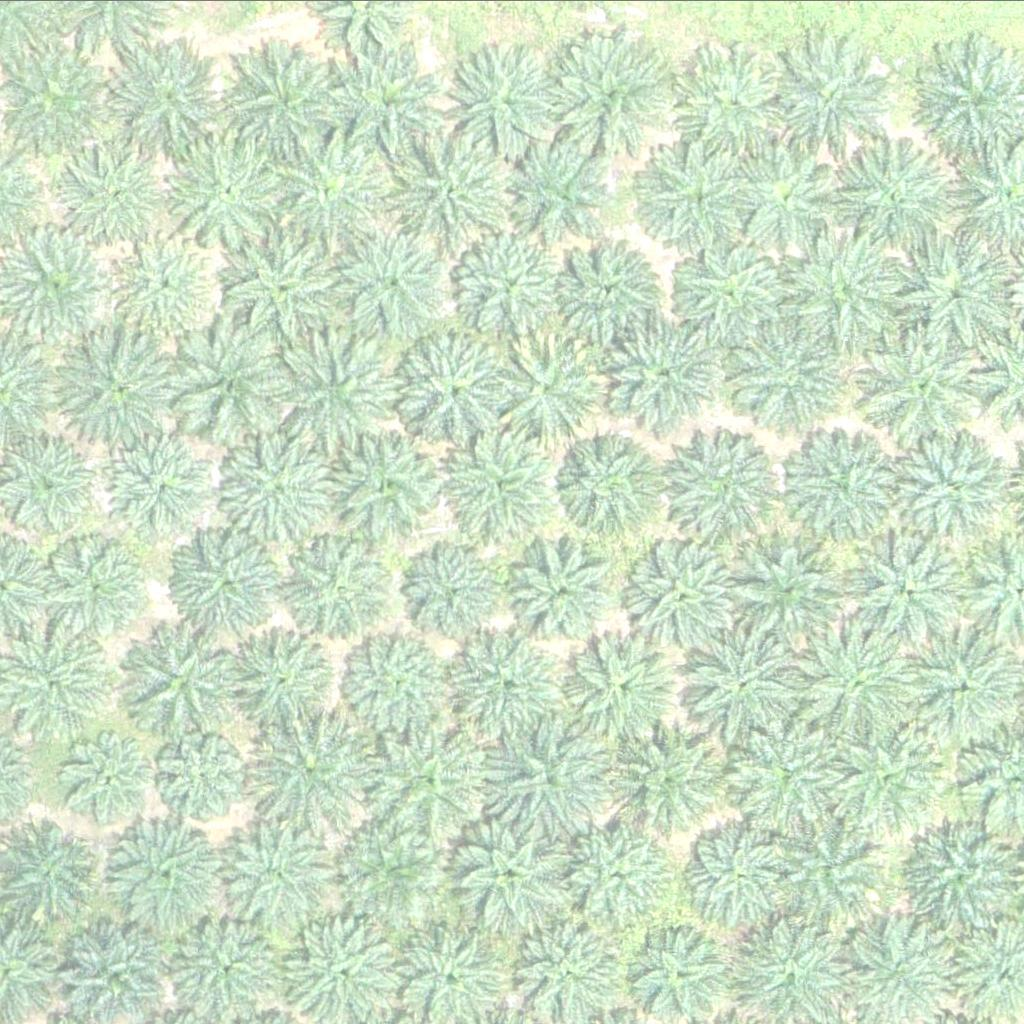Kelapa_Sawit: (225, 39, 351, 164), (446, 33, 572, 158), (542, 34, 668, 159), (394, 132, 520, 257), (266, 125, 392, 250), (169, 133, 295, 258), (226, 228, 352, 353), (398, 330, 524, 455), (277, 336, 403, 461), (173, 312, 299, 437), (56, 323, 182, 448), (325, 421, 451, 546), (495, 719, 621, 844), (249, 704, 375, 829), (458, 808, 584, 933), (634, 133, 760, 258), (670, 226, 796, 351), (672, 39, 798, 164), (794, 624, 920, 749), (662, 421, 788, 546), (780, 418, 906, 543), (862, 325, 988, 450), (730, 318, 856, 443), (602, 313, 728, 438), (793, 229, 919, 354), (896, 235, 1022, 360), (834, 137, 960, 262), (772, 35, 898, 160), (495, 323, 620, 448), (437, 421, 562, 546), (680, 623, 805, 748), (842, 522, 967, 647), (730, 522, 855, 647), (893, 422, 1018, 547), (4, 223, 118, 336), (108, 227, 222, 340), (518, 906, 632, 1019), (512, 138, 625, 251), (338, 224, 451, 337), (452, 226, 565, 339), (127, 628, 240, 741), (335, 625, 448, 738), (292, 910, 405, 1023), (564, 814, 677, 927), (728, 721, 841, 834), (683, 819, 796, 932), (781, 812, 894, 925), (328, 43, 442, 155), (113, 43, 226, 155), (56, 136, 169, 248), (105, 425, 218, 537), (227, 430, 340, 542), (173, 528, 286, 640), (456, 622, 569, 734), (373, 728, 486, 840), (115, 817, 228, 929), (227, 817, 340, 929), (607, 722, 720, 834), (569, 626, 682, 738), (5, 432, 106, 532), (553, 244, 654, 344), (553, 434, 654, 534), (513, 539, 614, 639), (406, 547, 507, 647), (289, 537, 390, 637), (48, 539, 149, 639), (234, 631, 335, 731), (158, 726, 259, 826), (58, 730, 159, 830), (2, 822, 103, 922), (340, 825, 441, 925), (178, 906, 279, 1006), (834, 726, 935, 826), (636, 544, 737, 644), (742, 146, 842, 246)
